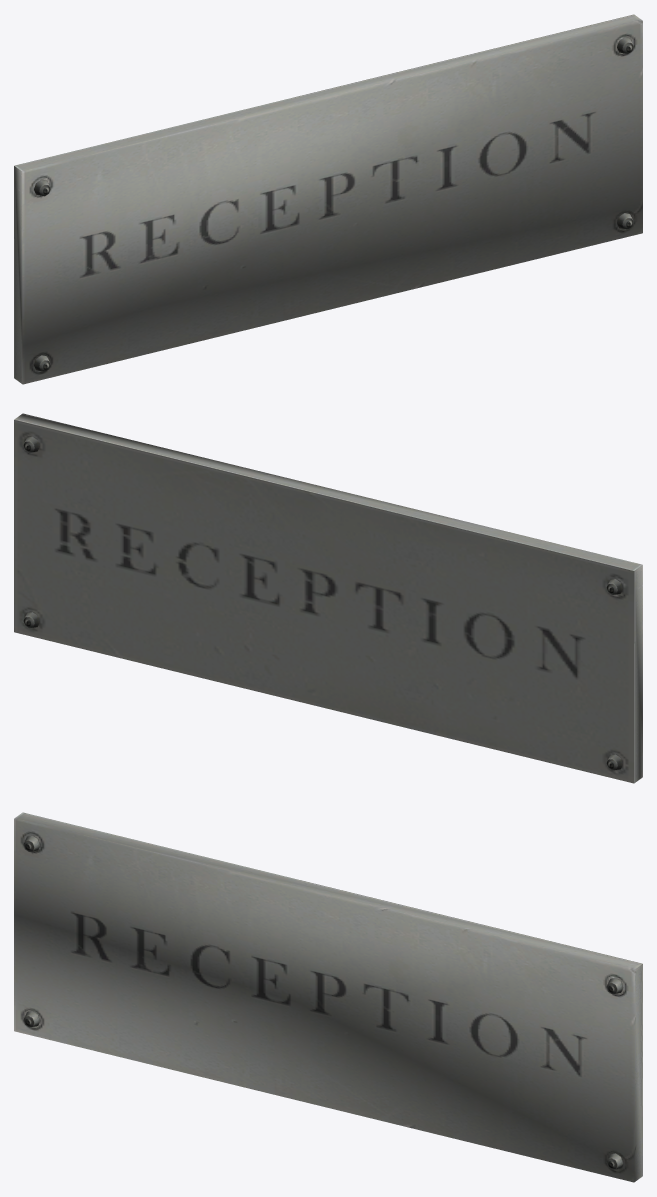
Rendered from sign_reception.dae.
3 renders of one model, top to bottom at view 1: azimuth 30°, elevation 25°; view 2: azimuth 150°, elevation 25°; view 3: azimuth 330°, elevation 25°, orthographic.
Visible parts, largest first — view 1: sign_reception; view 2: sign_reception; view 3: sign_reception.
Boxes of the visible parts, x1,y1,x2,y2 form: sign_reception: (14, 14, 642, 384); sign_reception: (14, 413, 642, 783); sign_reception: (14, 812, 642, 1182).
Bounding box in the file's own units: 99.86 × 32.68 × 4.89.
